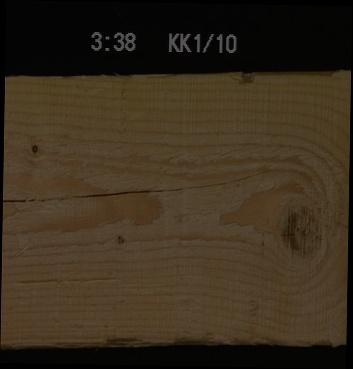dry_knot: (29, 142, 37, 153)
small_knot: (114, 233, 124, 245)
sound_knot: (279, 208, 324, 257)
split: (2, 163, 273, 205)
wave: (53, 327, 346, 350)
